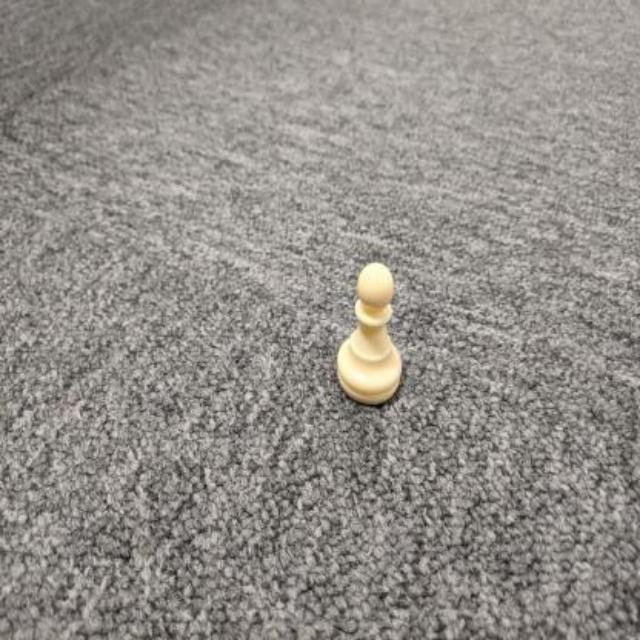white-pawn: (337, 261, 403, 407)
